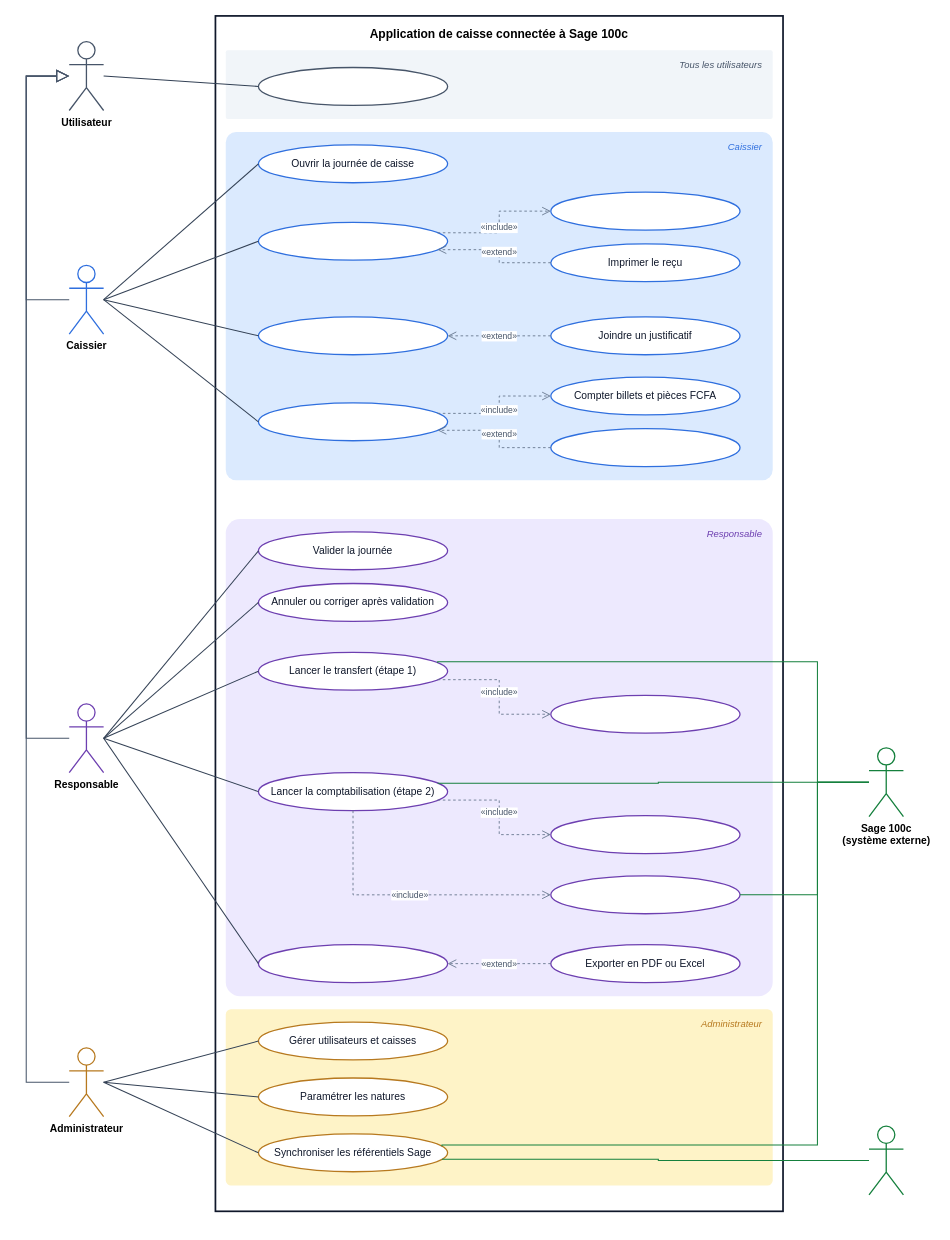
Image size: 950x1240. Some labels were removed from this diagram. Each missing label, with the centre of its shape:
Clôturer la caisse: (352,421)
Consulter les rapports: (352,963)
Contrôler doublons et numérotation: (645,713)
Contrôler l'équilibre des pièces: (645,834)
Justifier l'écart: (645,447)
Planificateur (tâche automatique): (886,1160)
Rapprocher les trois totaux: (645,894)
Rechercher un client: (645,210)
S'authentifier: (352,86)
Saisir un mouvement de caisse: (352,335)
Saisir un règlement client: (352,240)
